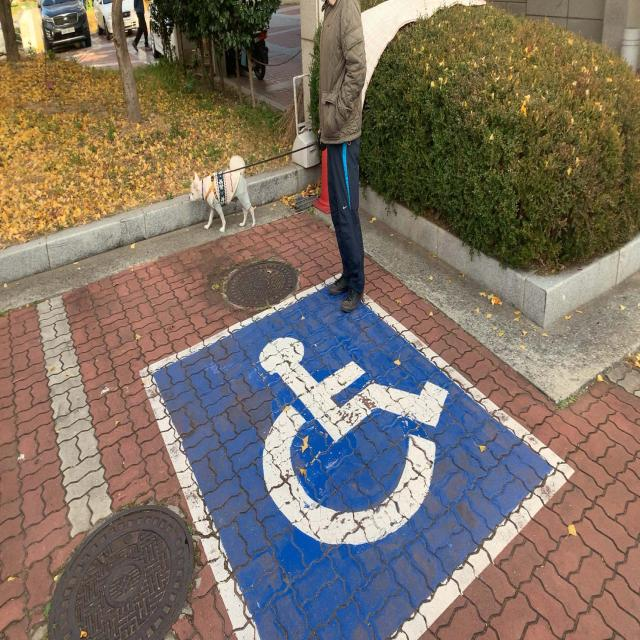Leashed_Dog: (189, 125, 345, 233)
